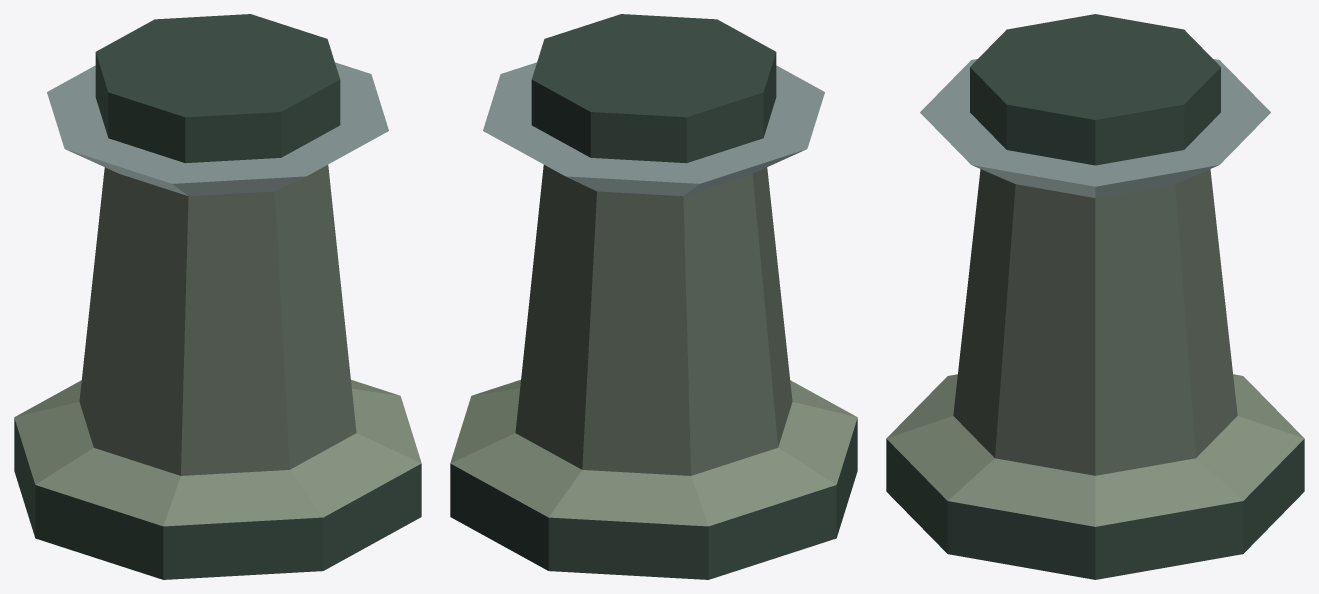
File: beacon-idle.glb
3 views of the same model, side by side, from view 1: azimuth 30°, elevation 25°; view 2: azimuth 150°, elevation 25°; view 3: azimuth 270°, elevation 25° (orthographic).
Parts seen in each view (by area): view 1: beacon-idle__body; view 2: beacon-idle__body; view 3: beacon-idle__body.
Boxes of the visible parts, bbox=[...] form: beacon-idle__body: bbox=[14, 14, 421, 579]; beacon-idle__body: bbox=[450, 14, 857, 579]; beacon-idle__body: bbox=[886, 14, 1304, 579].
Bounding box in the file's own units: 1 × 1.12 × 1.
